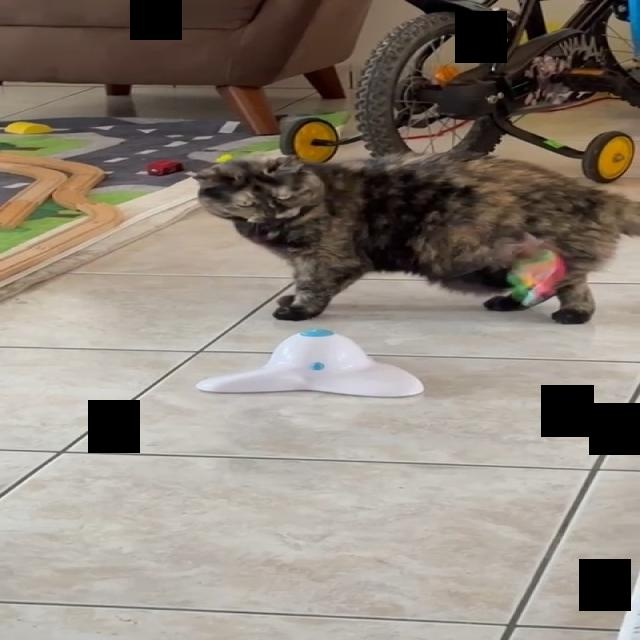authorized: (188, 150, 639, 324)
